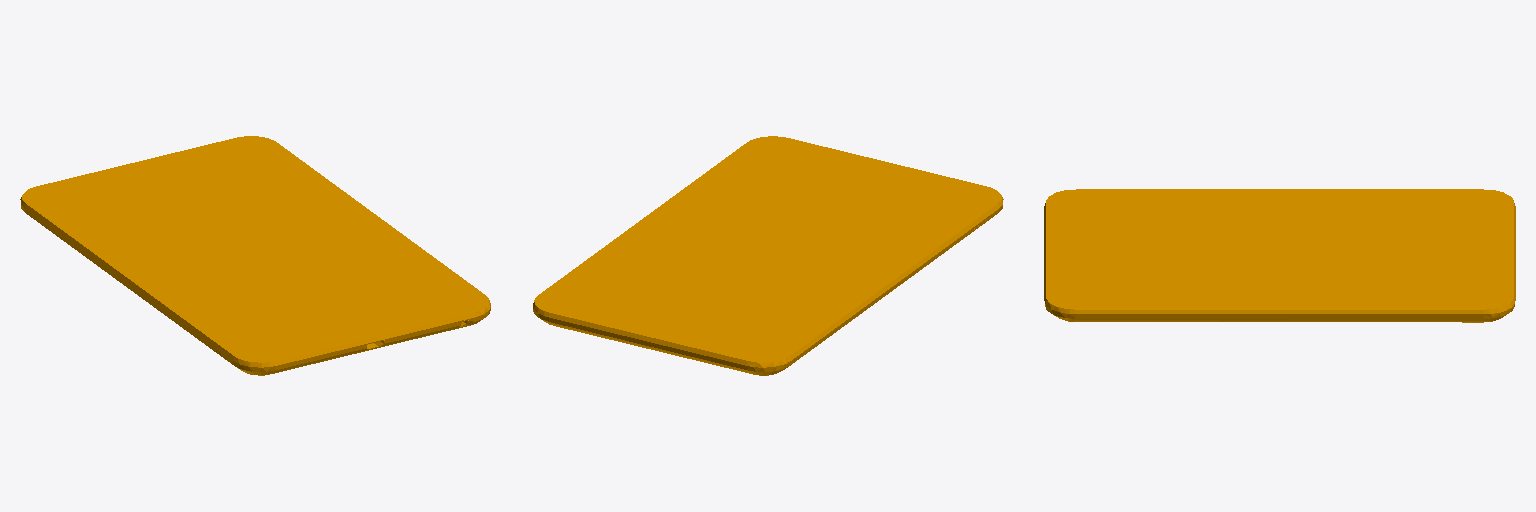
robot.urdf — nexus7:
<robot name="nexus7">  

  <link name="base_link">
    <visual>
      <origin rpy="0 0 0" xyz="0 0 0"/>
      <geometry>
        <mesh filename="package://nexus7_description/meshes/nexus7.dae" scale="0.001 0.001 0.001"/>
      </geometry>
    </visual>
    <collision>
      <origin rpy="0 0 0" xyz="0 0 0"/>
      <geometry>
        <mesh filename="package://nexus7_description/meshes/nexus7.dae" scale="0.001 0.001 0.001"/>
      </geometry>
    </collision>
  </link>

</robot>

--- Facts derived from the render (not from the file) ---
Views: 3 orthographic renders of the robot side by side, from view 1: azimuth 30°, elevation 25°; view 2: azimuth 150°, elevation 25°; view 3: azimuth 270°, elevation 25°.
Model nexus7 with 1 links and 0 joints (none), rooted at base_link, posed all joints at 0.
Links seen in each view (by area): view 1: base_link; view 2: base_link; view 3: base_link.
Link boxes in pixels (x1,y1,x2,y2): base_link: (20,136,490,375); base_link: (533,136,1003,375); base_link: (1044,189,1515,322).
Size in the robot's own frame: 0.0012 by 0.002 by 0.0001 metres.
Meshes: 1 distinct files referenced, 1 mesh visuals loaded (1 Collada DAE).